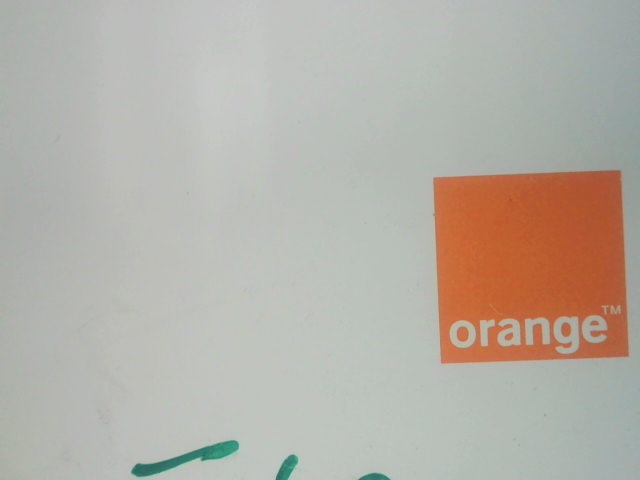AR_Orange: (425, 166, 632, 366)
